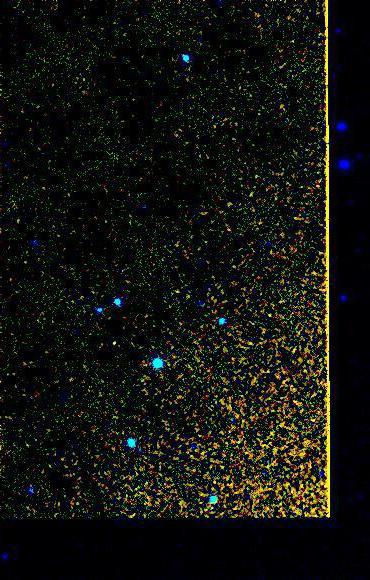star: (99, 329, 129, 359)
